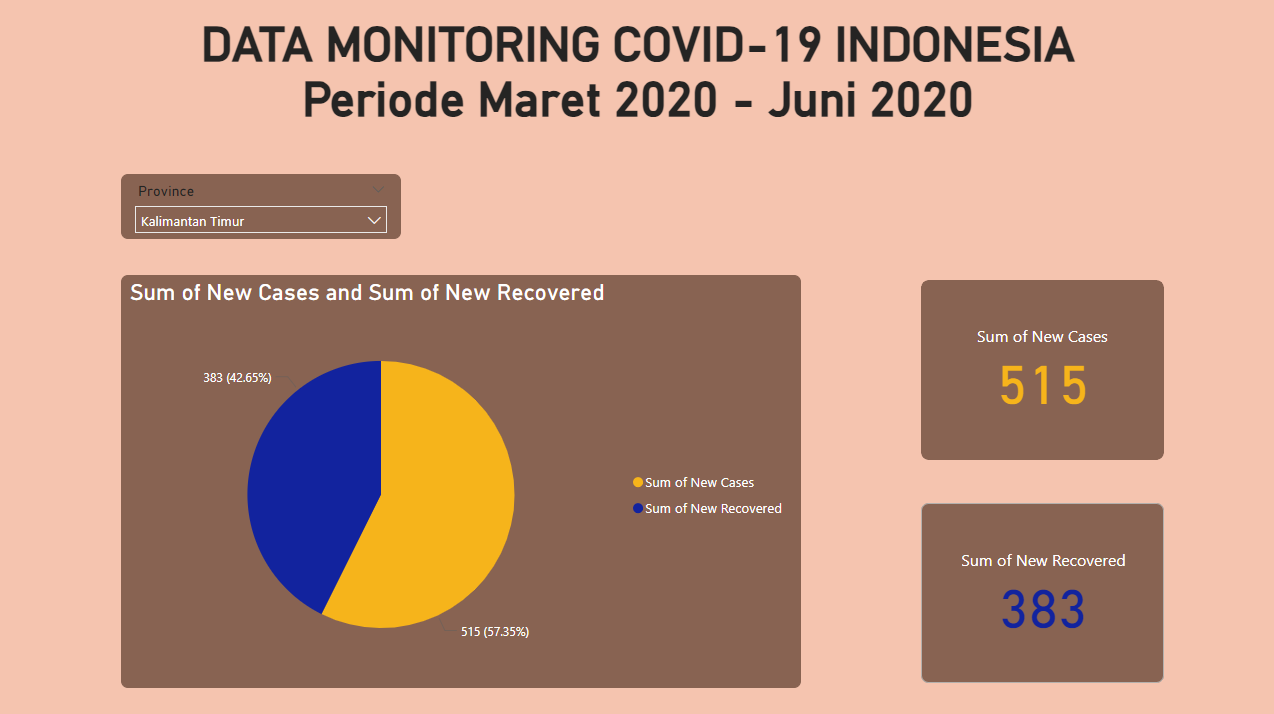

What the dashboard file says about the page in this screenshot:
{"tool":"powerbi","page":{"name":"Pie Chart","canvas":[1280,720],"ordinal":2},"visuals":[{"type":"pieChart","fields":{"Y":["Sum(covid_19_indonesia_time_series_all (3).New Cases)","Sum(covid_19_indonesia_time_series_all (3).New Recovered)"]},"box":[123,255,718,435],"z":0},{"type":"textbox","box":[0,0,1280,146.7],"z":1000},{"type":"slicer","fields":{"Values":["covid_19_indonesia_time_series_all (3).Province"]},"box":[123,169,280,65],"z":2000},{"type":"cardVisual","fields":{"Data":["Sum(covid_19_indonesia_time_series_all (3).New Cases)"]},"box":[901,255,270,215],"z":3000},{"type":"cardVisual","fields":{"Data":["Sum(covid_19_indonesia_time_series_all (3).New Recovered)"]},"box":[901,473,270,216],"z":4000}]}

Visuals, with their boxes in screenshot pixels (x1, y1, x2, y2), scaled from the page's 1280x720 canvas onto the 1274x714 screenshot:
pieChart - Sum(covid_19_indonesia_time_series_all (3).New Cases) x Sum(covid_19_indonesia_time_series_all (3).New Recovered): {"x1": 122, "y1": 253, "x2": 837, "y2": 684}
textbox: {"x1": 0, "y1": 0, "x2": 1273, "y2": 145}
slicer - covid_19_indonesia_time_series_all (3).Province: {"x1": 122, "y1": 168, "x2": 401, "y2": 232}
cardVisual - Sum(covid_19_indonesia_time_series_all (3).New Cases): {"x1": 897, "y1": 253, "x2": 1166, "y2": 466}
cardVisual - Sum(covid_19_indonesia_time_series_all (3).New Recovered): {"x1": 897, "y1": 469, "x2": 1166, "y2": 683}
